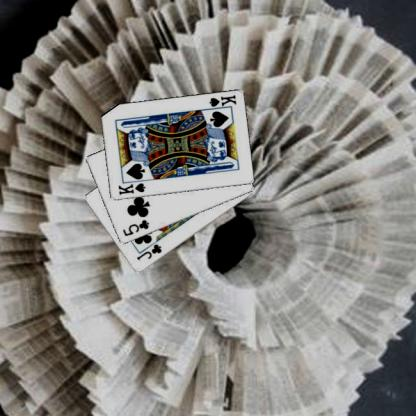5C: (120, 217, 150, 238)
JC: (134, 241, 163, 262)
KS: (204, 92, 237, 112), (115, 180, 147, 196)
